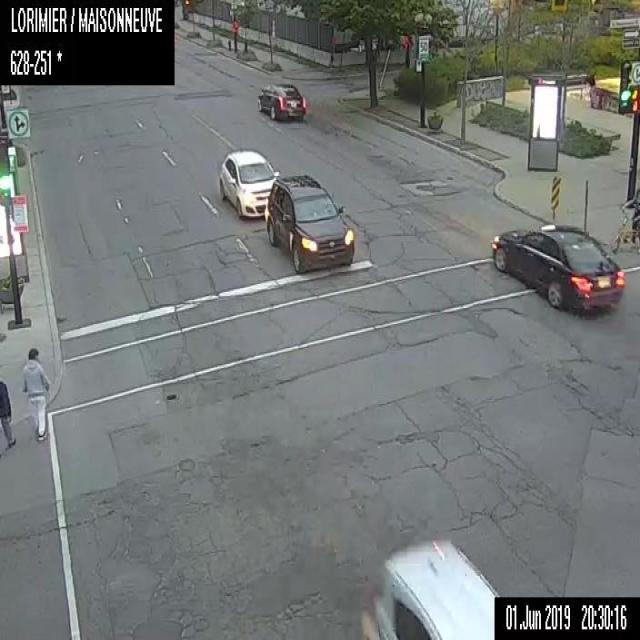pedestrian: (20, 345, 50, 440), (620, 190, 639, 250), (0, 380, 14, 445)
vehicle: (359, 537, 500, 639), (492, 222, 624, 310), (265, 174, 356, 272), (218, 149, 280, 218), (256, 83, 304, 120)
